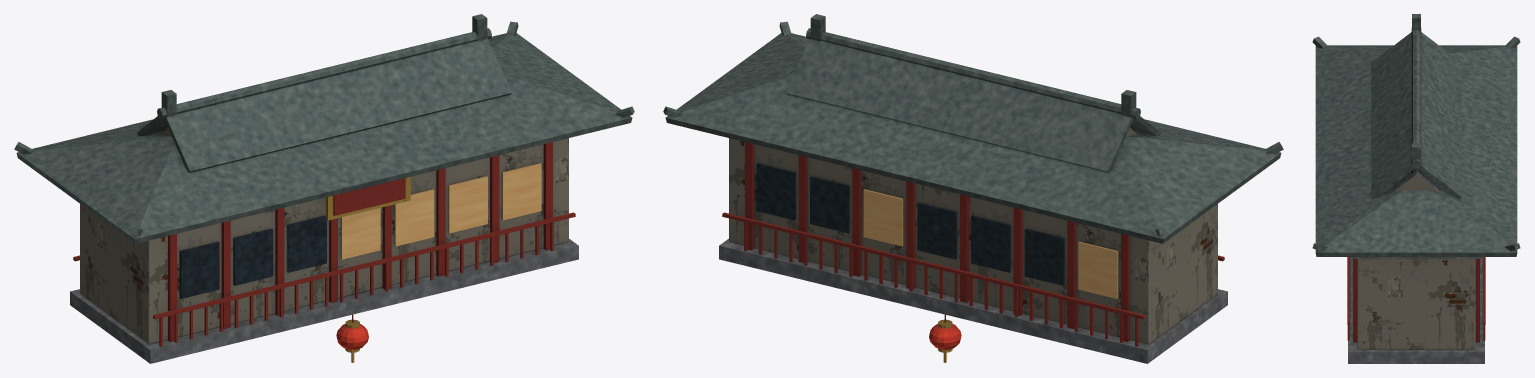
Rendered from city_lc_skybridge.glb.
3 views of the same model, side by side, from view 1: azimuth 30°, elevation 25°; view 2: azimuth 150°, elevation 25°; view 3: azimuth 270°, elevation 25° (orthographic). The views are drawn at different scales.
Parts seen in each view (by area): view 1: city_lc_skybridge.001; view 2: city_lc_skybridge.001; view 3: city_lc_skybridge.001.
Part boxes in pixels (x1,y1,x2,y2): city_lc_skybridge.001: (14, 14, 634, 363); city_lc_skybridge.001: (663, 14, 1283, 363); city_lc_skybridge.001: (1312, 14, 1520, 363).
Bounding box in the file's own units: 13.42 × 7.29 × 5.62.
Materials: 8 (8 with a texture image).
